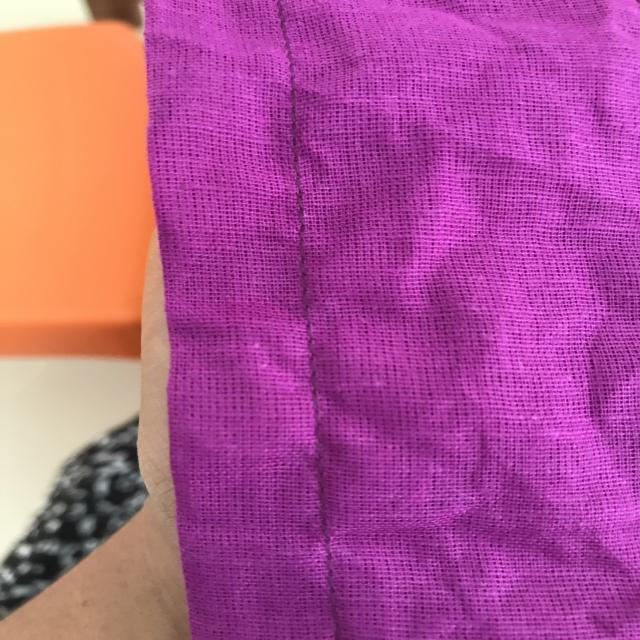good: (286, 281, 329, 396), (282, 138, 319, 249)
